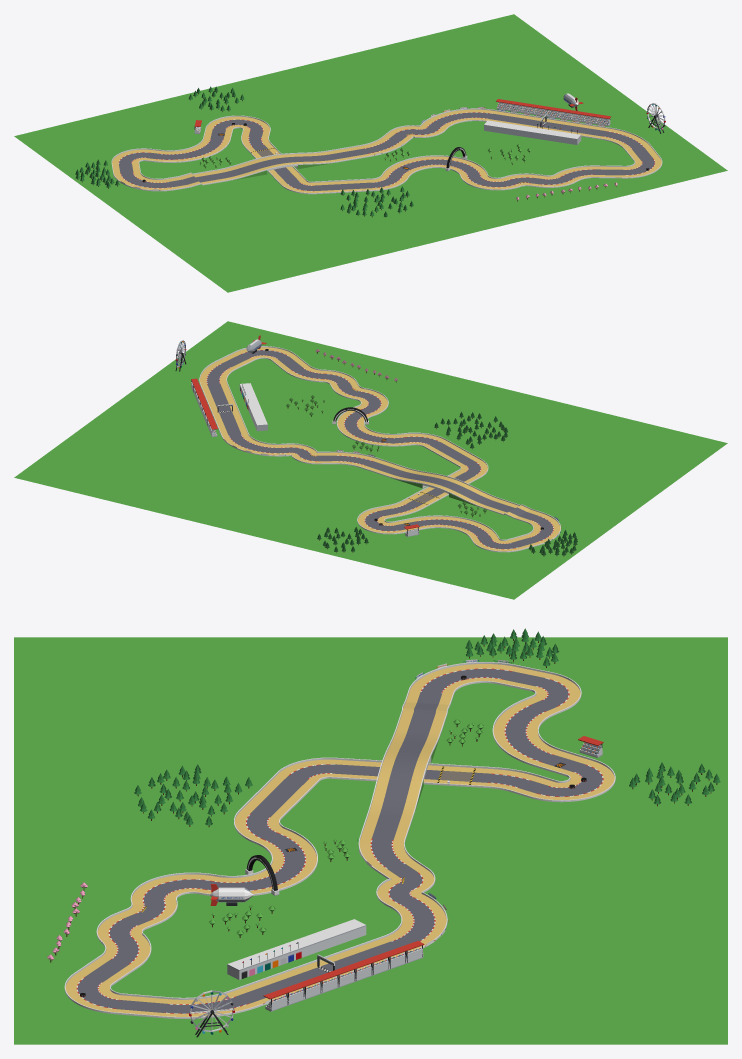
Rendered from brands-patch.glb.
3 renders of one model, top to bottom at view 1: azimuth 30°, elevation 25°; view 2: azimuth 150°, elevation 25°; view 3: azimuth 270°, elevation 25°, orthographic. The views are drawn at different scales.
Visible parts, largest first — view 1: Grass, Woods.grass, Asphalt, SandLeft, SandRight, WallLeft, WallRight, Woods.canopy-pine, Woods.canopy-pine-shade, Grandstand.stand-riser, Prop.pits.stand-plinth, Prop.pits.wall; view 2: Grass, Woods.grass, Asphalt, SandRight, SandLeft, WallRight, WallLeft, Woods.canopy-pine-shade, Prop.pits.wall; view 3: Grass, Woods.grass, Asphalt, SandRight, SandLeft, Woods.canopy-pine, WallRight, WallLeft, Grandstand.stand-riser, Prop.pits.wall, Prop.pits.stand-riser, Grandstand.kerb-red (+4 smaller).
Boxes of the visible parts, left/top/right/bottom form: Grass: left=39, top=29, right=721, bottom=290; Woods.grass: left=14, top=14, right=727, bottom=292; Asphalt: left=119, top=112, right=654, bottom=190; SandLeft: left=132, top=109, right=661, bottom=192; SandRight: left=112, top=116, right=641, bottom=190; WallLeft: left=138, top=108, right=662, bottom=194; WallRight: left=111, top=115, right=635, bottom=191; Woods.canopy-pine: left=77, top=86, right=413, bottom=216; Woods.canopy-pine-shade: left=75, top=87, right=412, bottom=216; Grandstand.stand-riser: left=194, top=102, right=610, bottom=133; Prop.pits.stand-plinth: left=484, top=124, right=580, bottom=144; Prop.pits.wall: left=484, top=120, right=580, bottom=138; Grass: left=38, top=322, right=721, bottom=584; Woods.grass: left=14, top=321, right=727, bottom=599; Asphalt: left=207, top=350, right=553, bottom=548; SandRight: left=220, top=355, right=560, bottom=551; SandLeft: left=200, top=347, right=540, bottom=543; WallRight: left=226, top=357, right=560, bottom=552; WallLeft: left=199, top=346, right=533, bottom=540; Woods.canopy-pine-shade: left=317, top=412, right=577, bottom=555; Prop.pits.wall: left=240, top=383, right=267, bottom=425; Grass: left=14, top=642, right=666, bottom=1040; Woods.grass: left=14, top=637, right=727, bottom=1044; Asphalt: left=77, top=669, right=602, bottom=1013; SandRight: left=98, top=664, right=614, bottom=1004; SandLeft: left=65, top=678, right=581, bottom=1016; Woods.canopy-pine: left=134, top=628, right=720, bottom=825; WallRight: left=110, top=662, right=615, bottom=999; WallLeft: left=64, top=681, right=570, bottom=1018; Grandstand.stand-riser: left=265, top=742, right=602, bottom=1010; Prop.pits.wall: left=227, top=919, right=365, bottom=969; Prop.pits.stand-riser: left=227, top=926, right=366, bottom=979; Grandstand.kerb-red: left=264, top=736, right=603, bottom=998.
Bounding box in the file's own units: 523 × 51.51 × 387.
